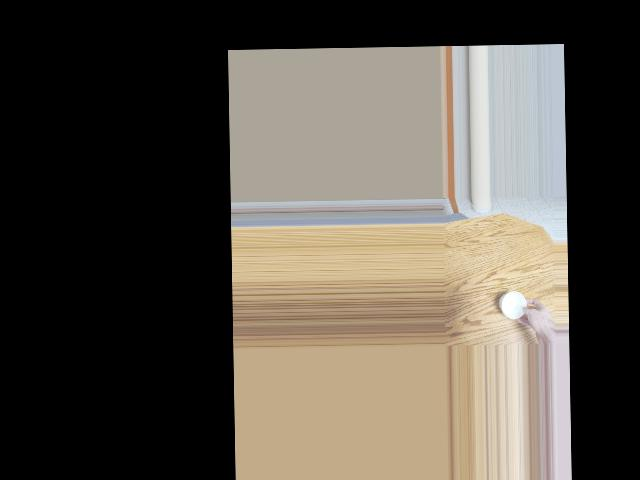cotage: (500, 286, 528, 319)
